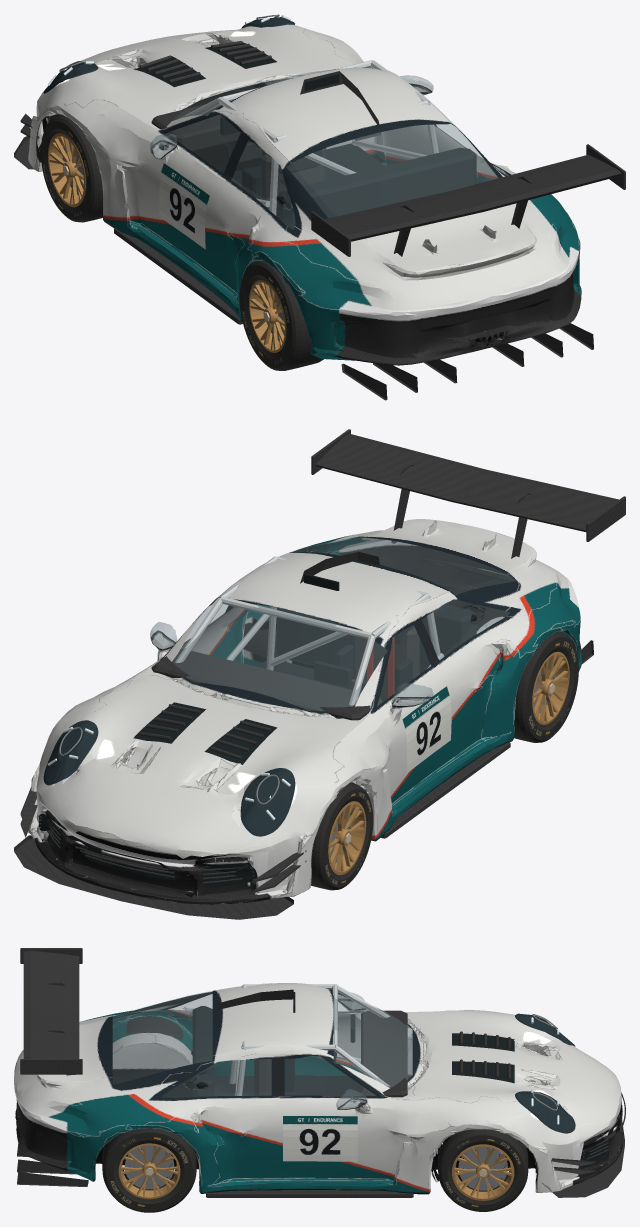
The picture shows the model from 3 angles, top to bottom: view 1: azimuth 30°, elevation 25°; view 2: azimuth 150°, elevation 25°; view 3: azimuth 270°, elevation 25°; orthographic projection. The views are drawn at different scales.
Parts seen in each view (by area): view 1: body, Endurance aero, GT3R_ExteriorCabin, wheel_RL, wheel_FL, Door number -1, wheel_FL_centrelock, wheel_RL_centrelock, Radiator exit -1, Radiator exit 1; view 2: body, Endurance aero, GT3R_ExteriorCabin, wheel_RL, wheel_FL, Door number -1, wheel_FL_centrelock, wheel_RL_centrelock, Radiator exit -1, Radiator exit 1; view 3: body, Endurance aero, GT3R_ExteriorCabin, wheel_RR, wheel_FR, Door number 1, wheel_FR_centrelock, wheel_RR_centrelock, wheel_RL, Radiator exit 1, Radiator exit -1.
Boxes of the visible parts, bbox=[...] form: body: bbox=[28, 24, 581, 365]; Endurance aero: bbox=[14, 14, 625, 400]; GT3R_ExteriorCabin: bbox=[151, 60, 476, 229]; wheel_RL: bbox=[239, 260, 323, 370]; wheel_FL: bbox=[40, 115, 102, 222]; Door number -1: bbox=[159, 163, 209, 249]; wheel_FL_centrelock: bbox=[48, 133, 85, 207]; wheel_RL_centrelock: bbox=[249, 280, 286, 352]; Radiator exit -1: bbox=[133, 56, 205, 87]; Radiator exit 1: bbox=[205, 42, 276, 68]; body: bbox=[28, 519, 581, 904]; Endurance aero: bbox=[14, 429, 625, 919]; GT3R_ExteriorCabin: bbox=[151, 556, 476, 782]; wheel_RL: bbox=[514, 631, 578, 742]; wheel_FL: bbox=[311, 782, 373, 890]; Door number -1: bbox=[402, 686, 451, 773]; wheel_FL_centrelock: bbox=[328, 801, 366, 875]; wheel_RL_centrelock: bbox=[532, 651, 569, 724]; Radiator exit -1: bbox=[204, 719, 277, 764]; Radiator exit 1: bbox=[133, 702, 205, 743]; body: bbox=[14, 983, 623, 1194]; Endurance aero: bbox=[17, 948, 625, 1197]; GT3R_ExteriorCabin: bbox=[192, 984, 411, 1106]; wheel_RR: bbox=[102, 1128, 196, 1212]; wheel_FR: bbox=[438, 1129, 528, 1211]; Door number 1: bbox=[283, 1116, 357, 1161]; wheel_FR_centrelock: bbox=[452, 1144, 514, 1200]; wheel_RR_centrelock: bbox=[118, 1143, 180, 1199]; wheel_RL: bbox=[126, 1016, 183, 1039]; Radiator exit 1: bbox=[452, 1061, 514, 1083]; Radiator exit -1: bbox=[452, 1033, 514, 1051].
Size of the model in its own units: 2.06 by 1.33 by 4.6.
Materials: 14 (5 with a texture image).
